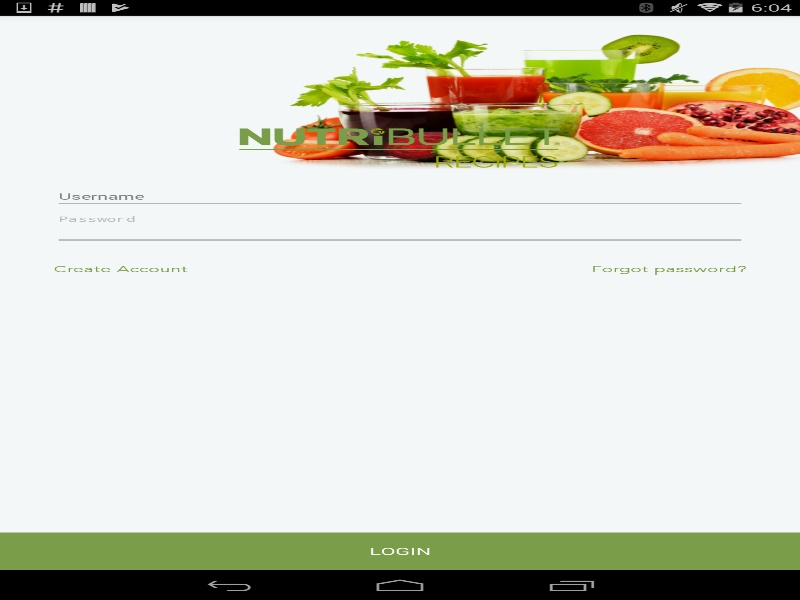Button: (0, 532, 800, 570), (591, 253, 746, 283), (53, 253, 188, 283)
Input: (53, 221, 746, 245), (53, 185, 746, 208)
